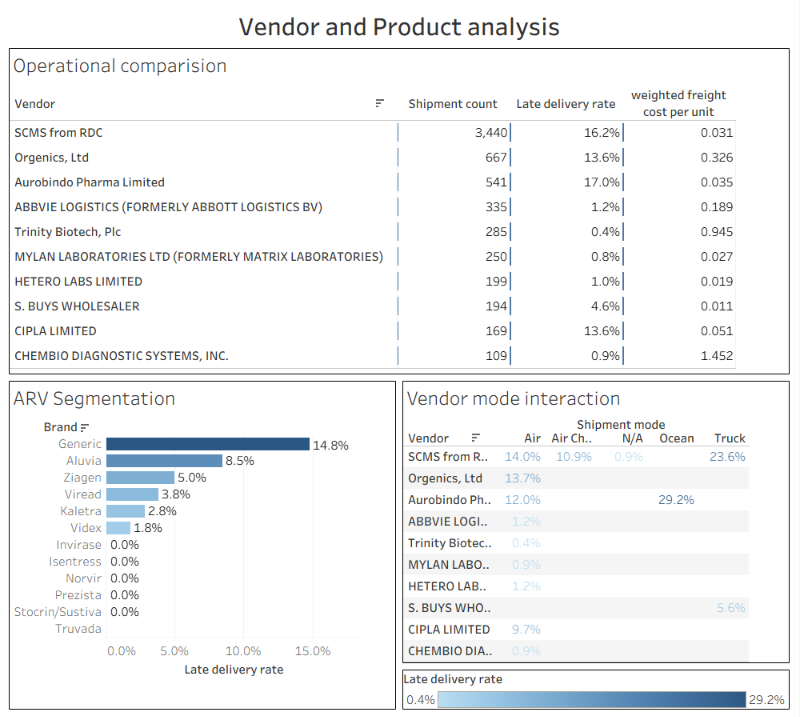

What the dashboard file says about the page in this screenshot:
{"tool":"tableau","page":{"name":"D3 - Vendor and Product analysis","canvas":[1000,900],"ordinal":1},"visuals":[{"type":"title","box":[8,8,984,49]},{"type":"worksheet","title":"Q8 - operational comparision","mark":"Bar","rows":["Vendor"],"box":[8,57,984,416]},{"type":"worksheet","title":"Q7 - ARV Segmentation","mark":"Automatic","rows":["Brand"],"cols":["Calculation_234187215722569728"],"box":[8,473,492,419]},{"type":"worksheet","title":"Q5- Vendor mode interaction","mark":"Automatic","rows":["Vendor"],"cols":["Shipment mode"],"box":[500,473,492,361]},{"type":"legend","title":"Q5- Vendor mode interaction","param":"[federated.04vf7f61isbbkn1fygyhf0owe36s].[usr:Calculation_234187215722569728:qk]","box":[500,834,492,58]}]}

Visuals, with their boxes in screenshot pixels (x1, y1, x2, y2), scaled from the page's 1000x900 canvas onto the 800x717 screenshot:
title: Rect(6, 6, 794, 45)
"Q8 - operational comparision" worksheet (Bar marks): Rect(6, 45, 794, 377)
"Q7 - ARV Segmentation" worksheet: Rect(6, 377, 400, 711)
"Q5- Vendor mode interaction" worksheet: Rect(400, 377, 794, 664)
"Q5- Vendor mode interaction" legend: Rect(400, 664, 794, 711)
